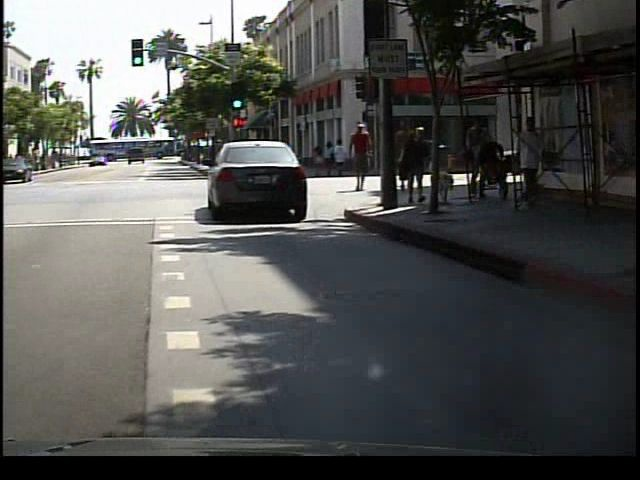person: (348, 115, 383, 198), (389, 112, 420, 193)
